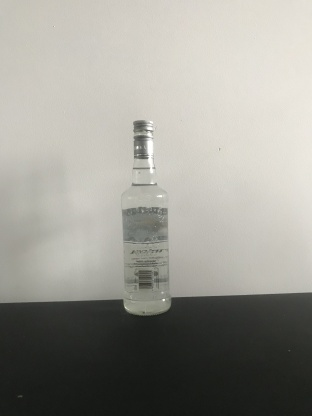nakretka: (131, 118, 155, 159)
